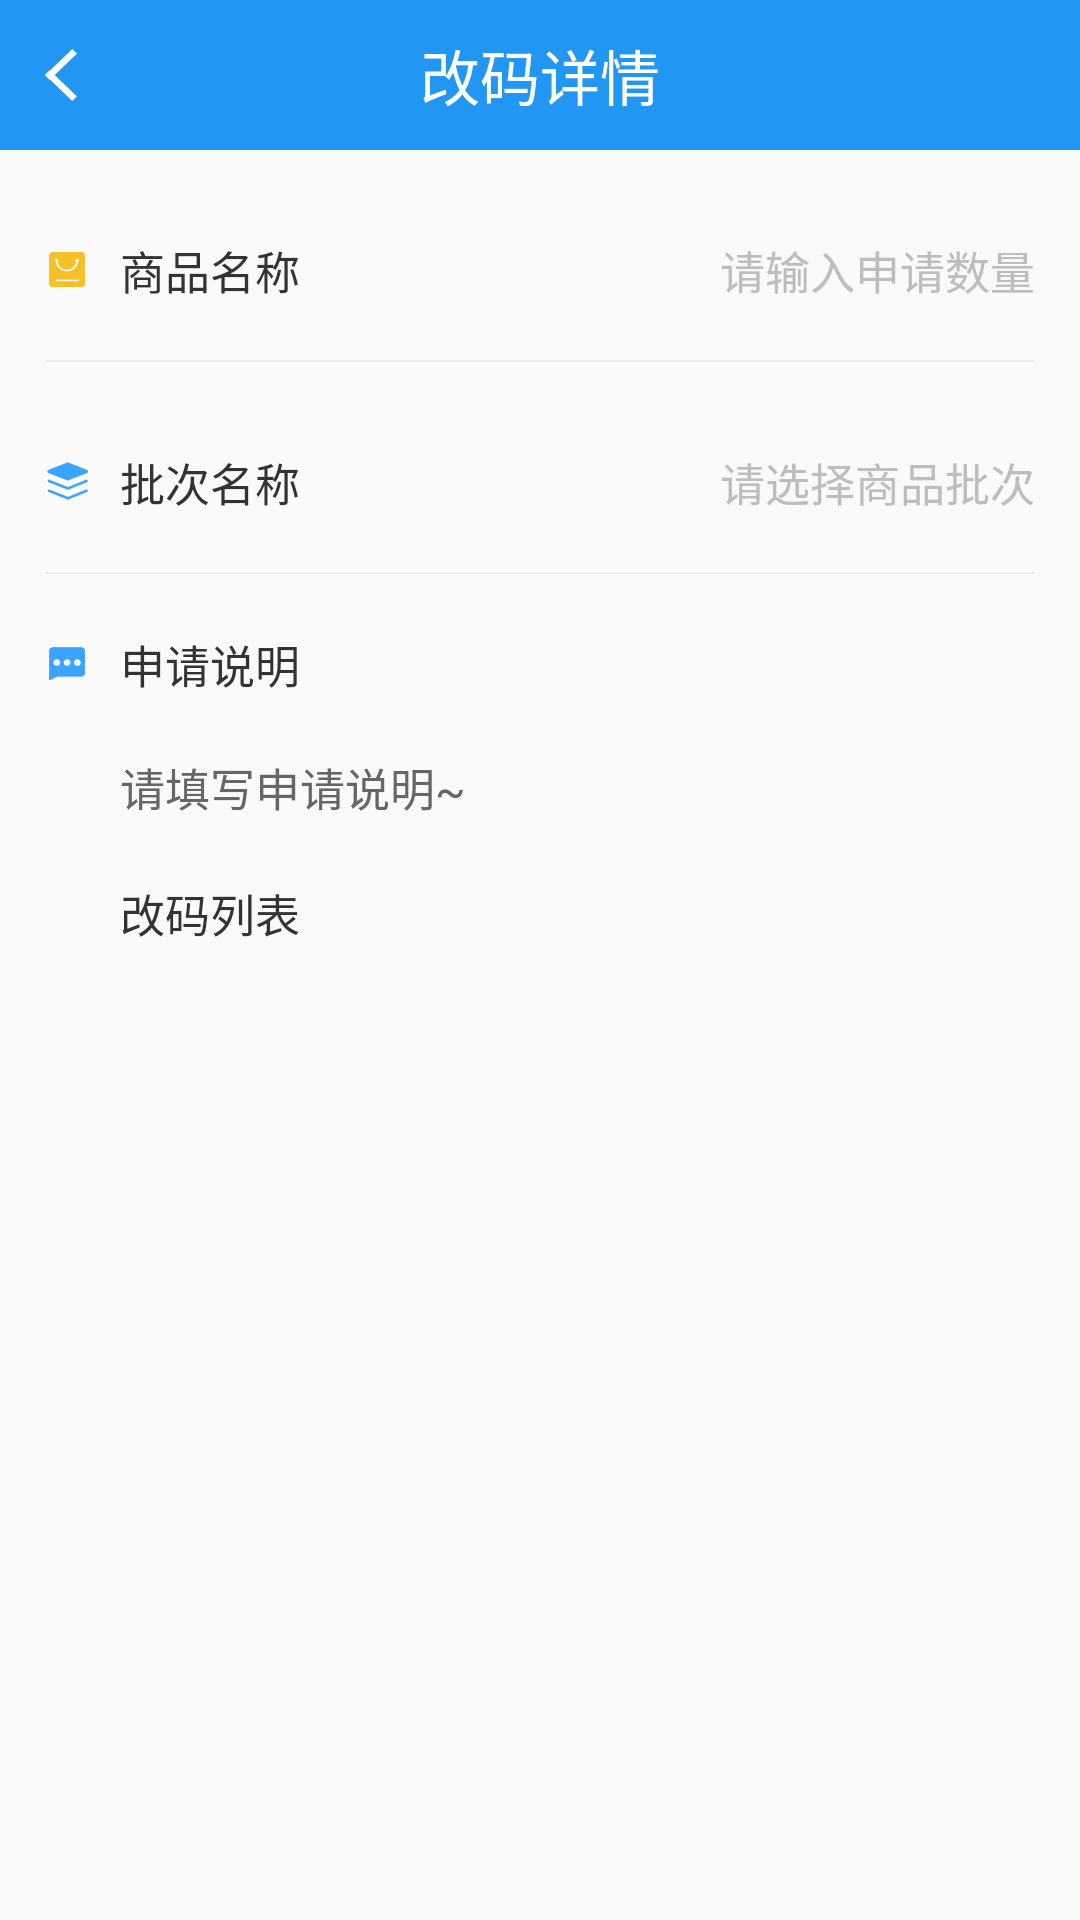

Named icons in this screenshot (1080 x 1920) and their bounding boxes, (x1, y1, x2, y2):
return: (45, 49, 77, 101)
